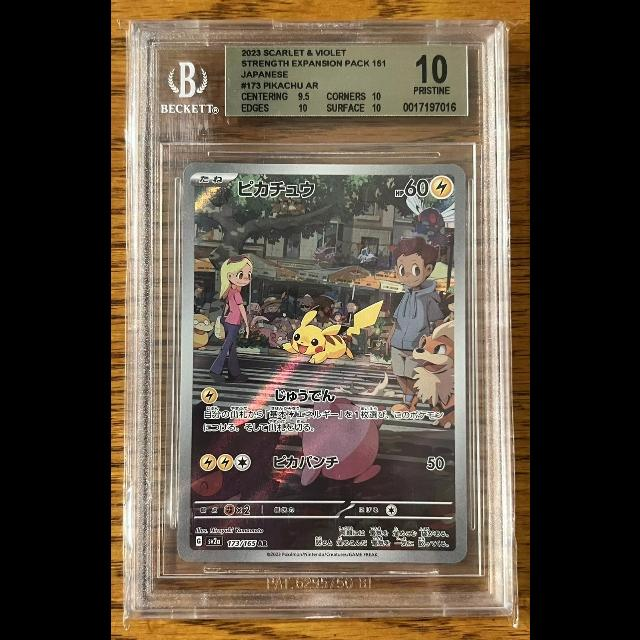bgs_label: (224, 44, 467, 116)
bgs_slab: (123, 20, 512, 620)
card: (175, 162, 466, 564)
